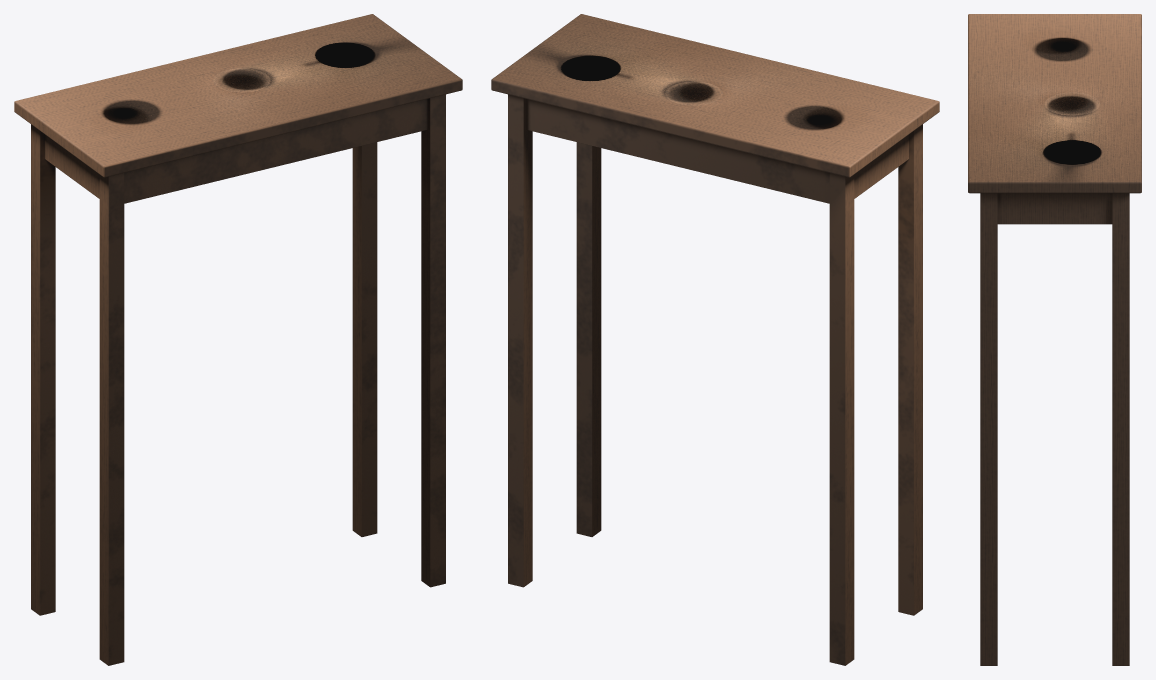
Rendered from 403_hook.glb.
3 renders of one model, left to right at view 1: azimuth 30°, elevation 25°; view 2: azimuth 150°, elevation 25°; view 3: azimuth 270°, elevation 25°, orthographic. The views are drawn at different scales.
Parts seen in each view (by area): view 1: Table; view 2: Table; view 3: Table.
Boxes of the visible parts, <box> form: Table: <box>14,14,462,665</box>; Table: <box>491,14,939,665</box>; Table: <box>968,14,1141,665</box>.
Size of what is drawn, in the model's own units: 2.3 by 3.1 by 1.
1 material, 1 textured.
